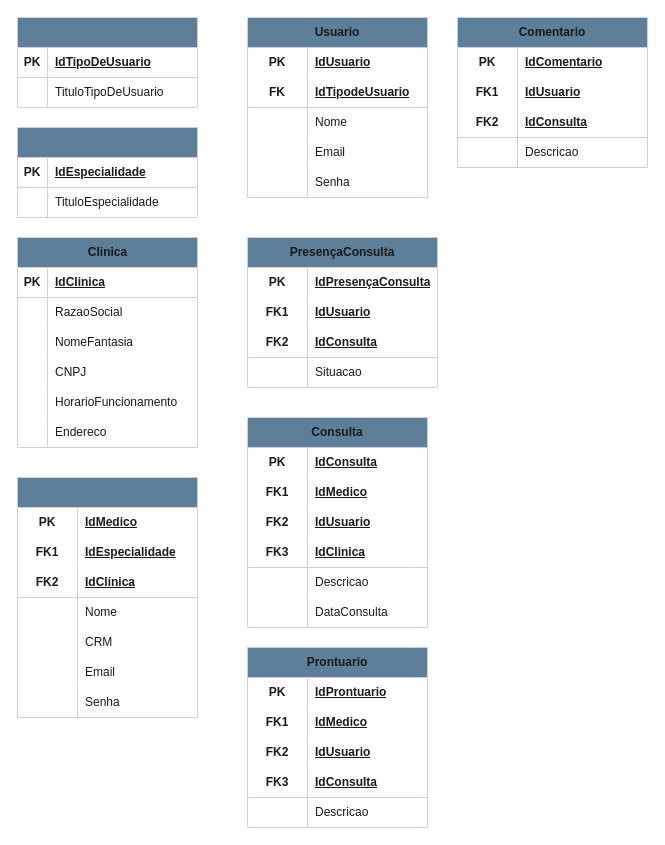
The diagram is 665 pixels wide and 845 high, and some of its shapes have lost their labels. The shapes that lost their labels are listed below. From the top down, each one's box as (x1, y1, x2, y2) in pixels, then its label:
(16, 16, 198, 108): TiposDeUsuario
(16, 126, 198, 218): Especialidades
(16, 476, 198, 718): Medicos
